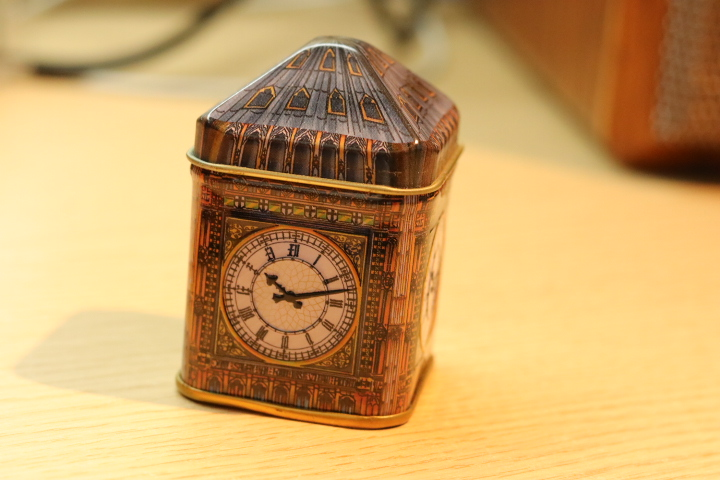Big Ben: (172, 26, 480, 443)
